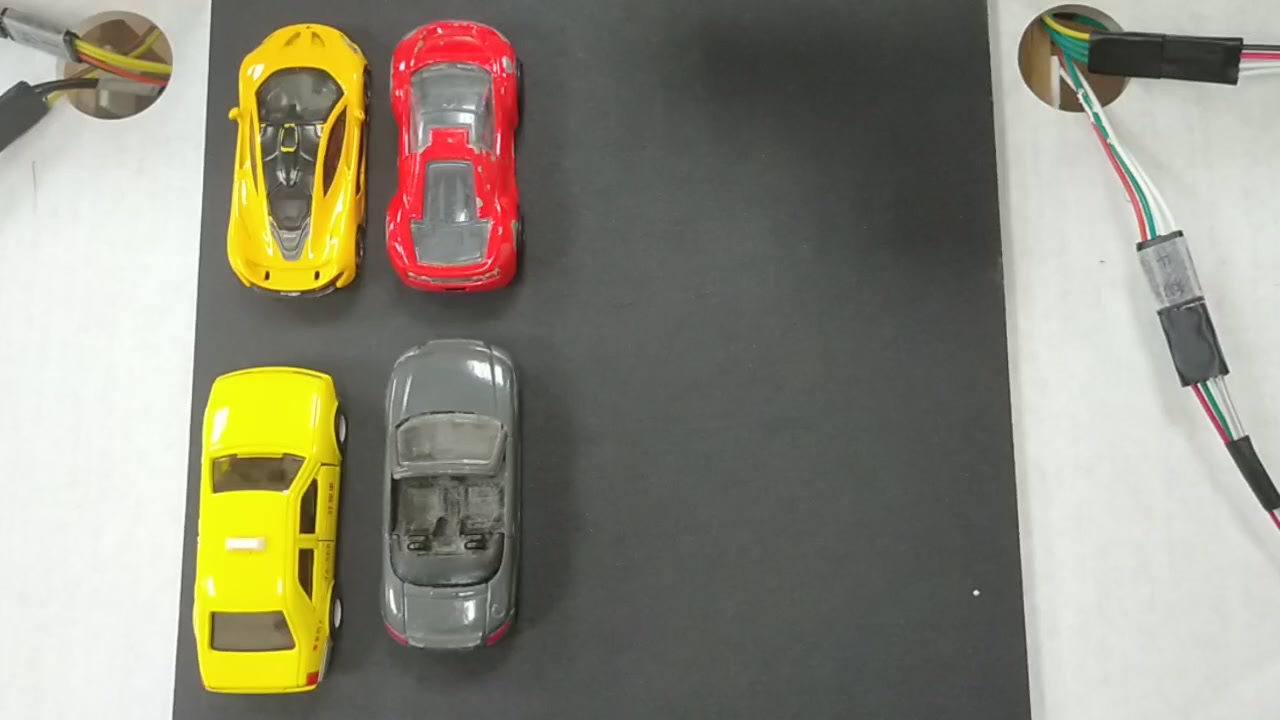car: (196, 376, 344, 691), (385, 333, 518, 654), (393, 18, 524, 295), (238, 27, 366, 299)
